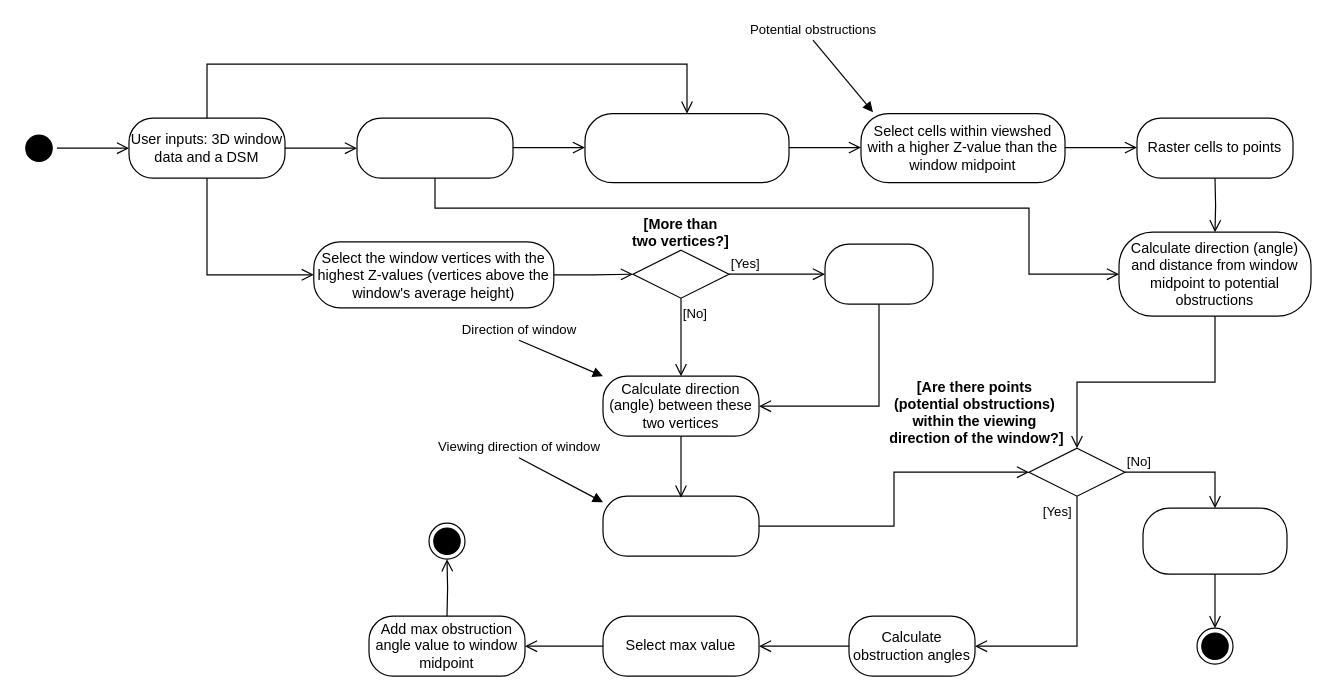
The diagram is 1332 pixels wide and 697 high, and some of its shapes have lost their labels. The box of each missing label's shape, as (x1, y1, x2, y2) in pixels:
Add no obstruction angle value to the window midpoint: (1142, 507, 1287, 574)
Calculate perpendicular directions (angles): (602, 495, 759, 556)
Calculate window midpoint: (356, 117, 513, 178)
Only select two of them: (824, 243, 933, 304)
Run viewshed analysis with window midpoint as observer point and DSM as surface: (584, 112, 789, 183)
